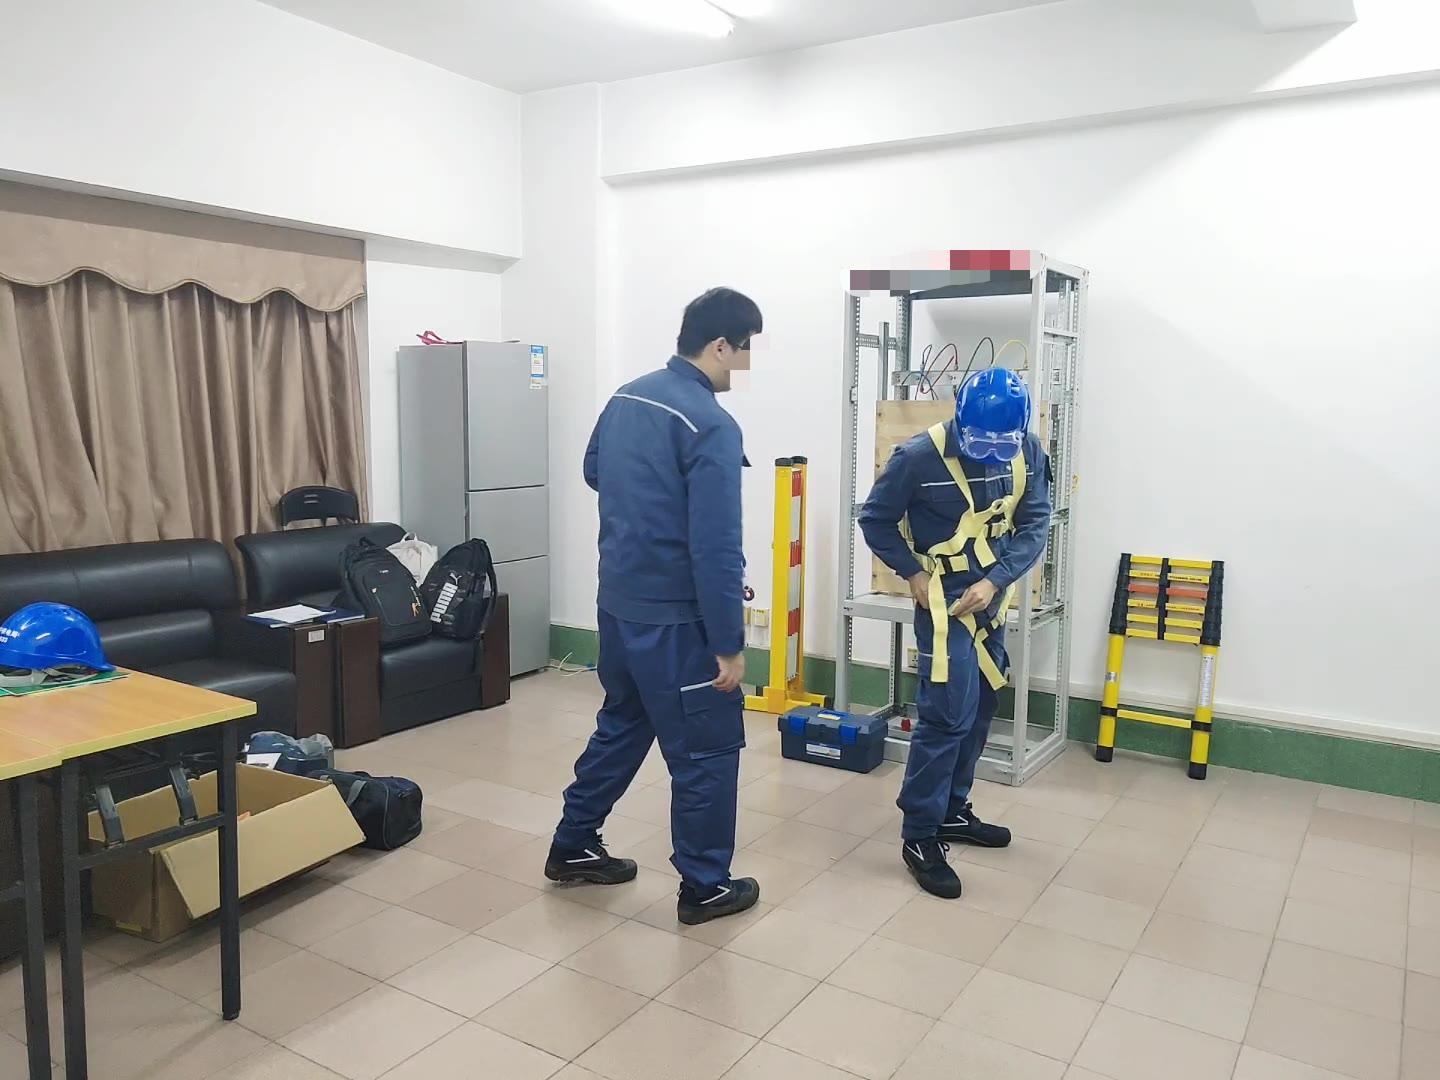halt: (959, 369, 1035, 455)
noear: (705, 334, 742, 378)
unhalt: (677, 288, 770, 391)
